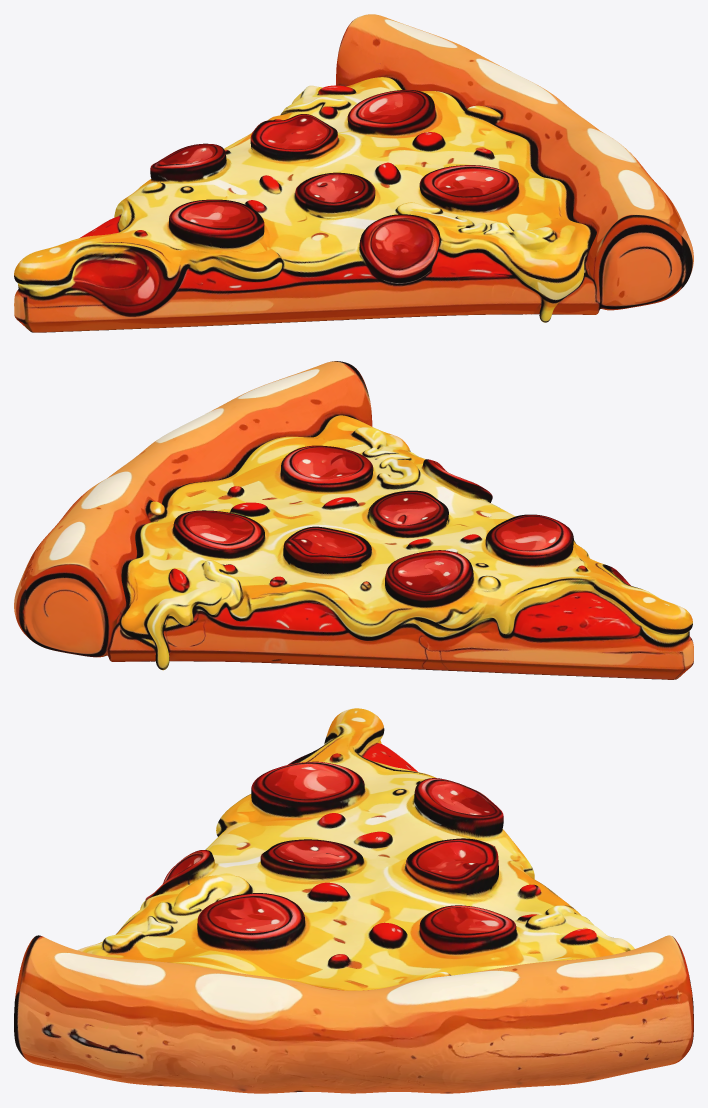
Rendered from Pizza.glb.
3 renders of one model, top to bottom at view 1: azimuth 30°, elevation 25°; view 2: azimuth 150°, elevation 25°; view 3: azimuth 270°, elevation 25°, orthographic. The views are drawn at different scales.
Size of the model in its own units: 1.9 by 0.3211 by 1.63.
1 material, 1 textured.
